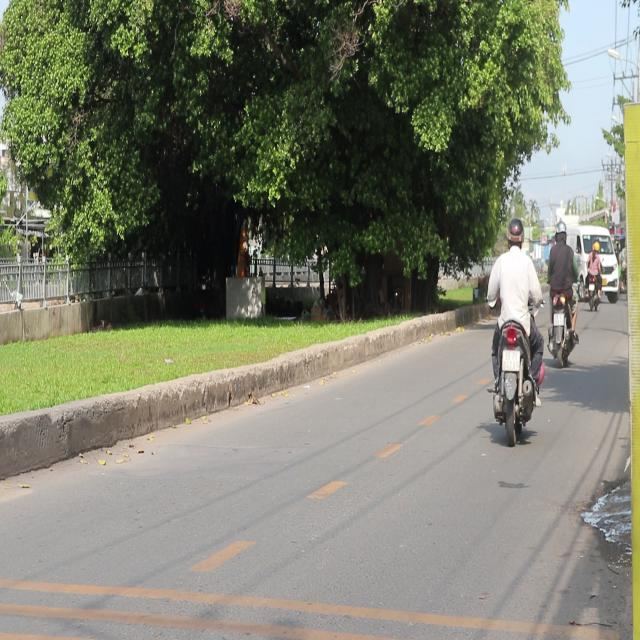helmet: (506, 216, 524, 248)
licenseplate: (484, 214, 544, 441)
nohelmet: (502, 350, 519, 370)
